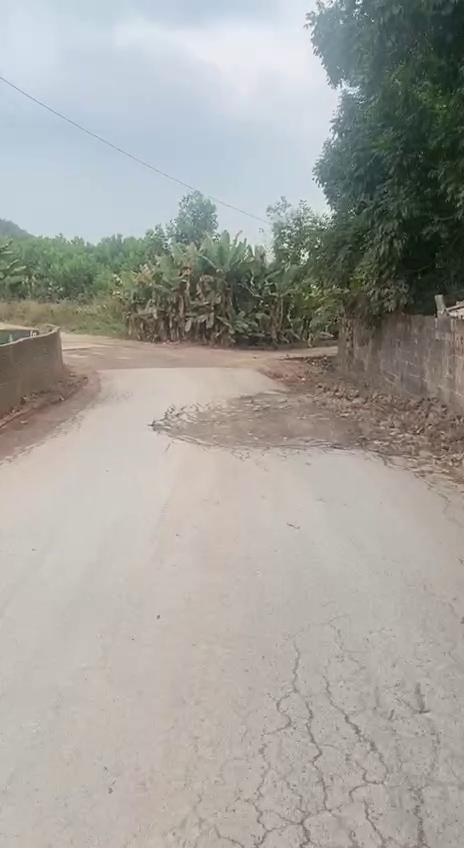pothole: (150, 388, 364, 453)
